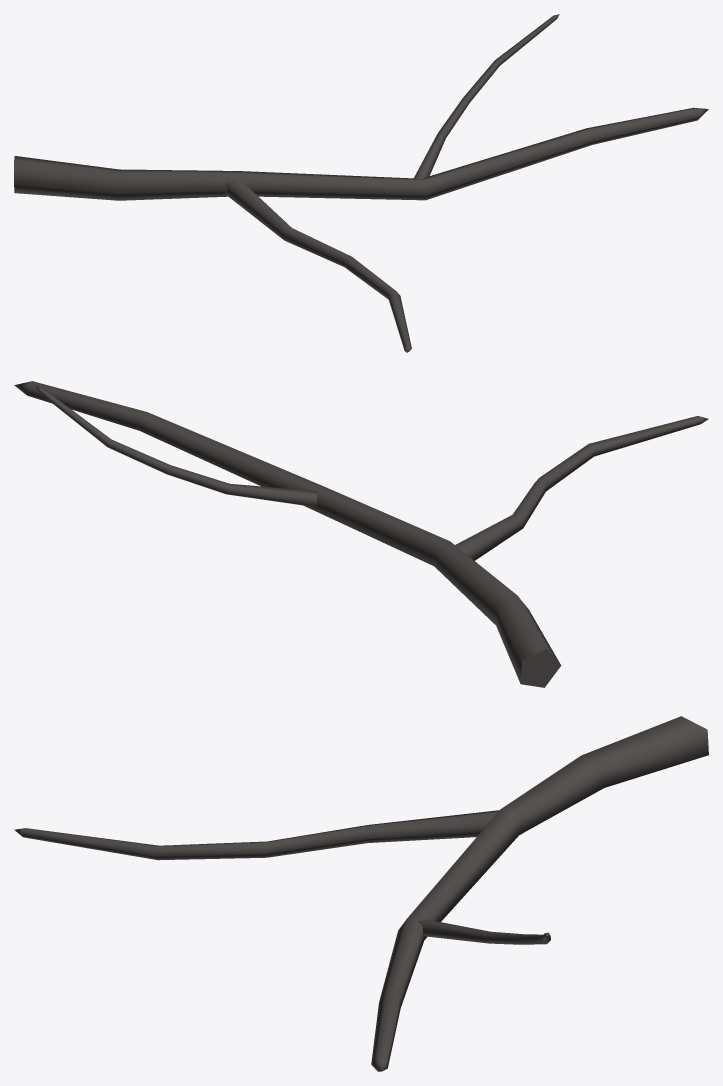
File: P_branch_dead_01_LD.fbx
3 views of the same model, one above another, from view 1: azimuth 30°, elevation 25°; view 2: azimuth 150°, elevation 25°; view 3: azimuth 270°, elevation 25° (orthographic). The views are drawn at different scales.
Visible parts, largest first — view 1: P_branch_dead_01; view 2: P_branch_dead_01; view 3: P_branch_dead_01.
Part boxes in pixels (bbox=[...]): P_branch_dead_01: bbox=[14, 14, 708, 352]; P_branch_dead_01: bbox=[14, 381, 708, 687]; P_branch_dead_01: bbox=[14, 716, 708, 1071].
Bounding box in the file's own units: 102 × 16.71 × 84.04.
